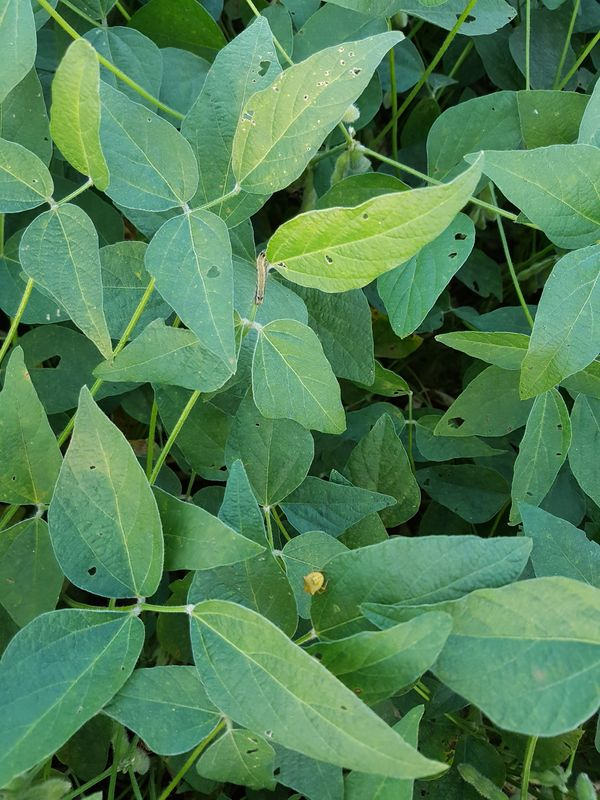Euschistus_heros_ninfa: (294, 566, 332, 602)
Spodoptera_albula: (239, 244, 276, 311)
